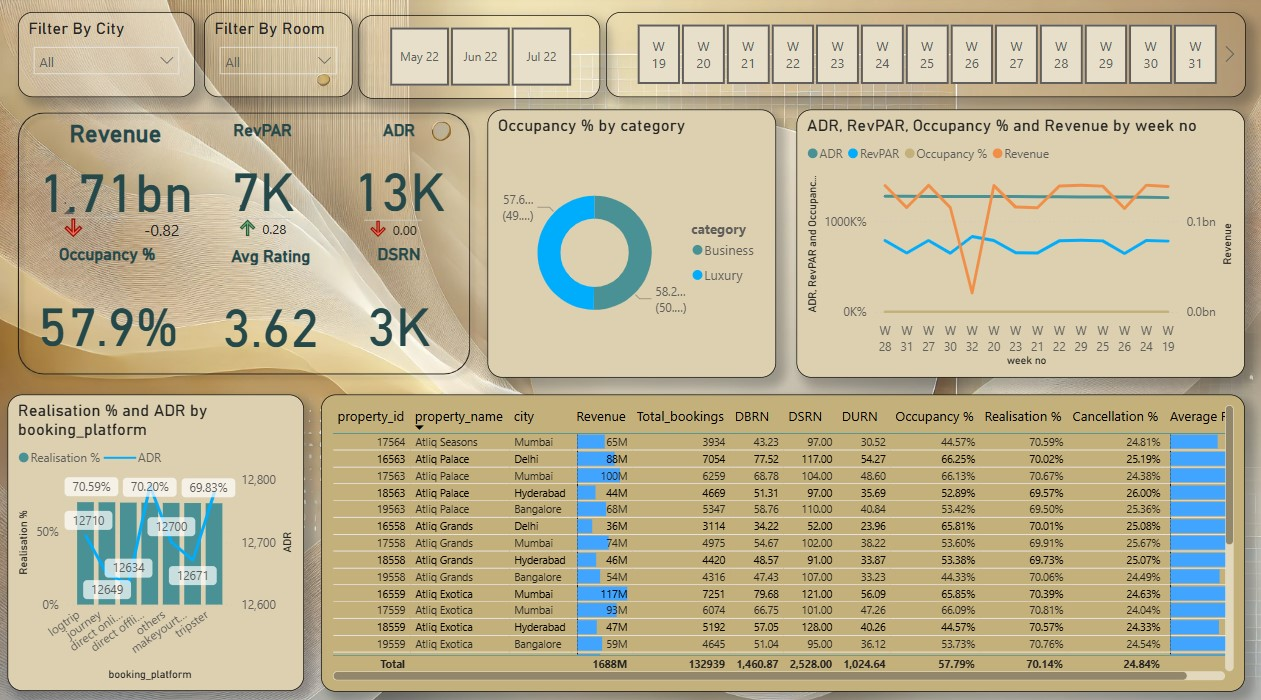

The dashboard page shown, as its layout file describes it:
{"tool":"powerbi","page":{"name":"Page 1","canvas":[1280,720],"ordinal":0},"visuals":[{"type":"shape","box":[11.8,111.1,474.5,282.7],"z":1000},{"type":"tableEx","fields":{"Values":["dim_hotels.property_id","dim_hotels.property_name","dim_hotels.city","key_measures.Revenue","key_measures.Total_bookings","key_measures.DBRN","key_measures.DSRN","key_measures.DURN","key_measures.Occupancy %","key_measures.Realisation %","key_measures.Cancellation %","key_measures.Average Rating"]},"box":[327.1,404.3,932.8,299.8],"z":2000},{"type":"slicer","title":"Filter By City","fields":{"Values":["dim_hotels.city"]},"box":[21.9,18.5,178.4,85.8],"z":3000},{"type":"slicer","title":"Filter By Room","fields":{"Values":["dim_rooms.room_class"]},"box":[208.7,18.5,149.8,85.8],"z":4000},{"type":"slicer","title":"Week Number","fields":{"Values":["dim_date.week no"]},"box":[614.2,18.5,646.2,85.8],"z":5000},{"type":"tableEx","fields":{"Values":["key_measures.Revenue WoW change %"]},"box":[55.5,181.7,153.1,94.2],"z":5500},{"type":"card","title":"Revenue","fields":{"Values":["key_measures.Revenue"]},"box":[21.9,127.9,196.9,106],"z":6000},{"type":"card","title":"Occupancy %","fields":{"Values":["key_measures.Occupancy %"]},"box":[21.9,252.4,180.1,132.9],"z":7000},{"type":"card","title":"Avg Rating","fields":{"Values":["key_measures.Average Rating"]},"box":[207,254.1,138,132.9],"z":8000},{"type":"slicer","fields":{"Values":["dim_date.mmm yy"]},"box":[365.4,20.5,244.1,84.8],"z":10000},{"type":"donutChart","fields":{"Category":["dim_hotels.category"],"Y":["key_measures.Occupancy %"]},"box":[494.7,116.1,291.1,270.9],"z":11000},{"type":"lineChart","fields":{"Y":["key_measures.ADR","key_measures.RevPAR","key_measures.Occupancy %"],"Y2":["key_measures.Revenue"],"Category":["dim_date.week no"]},"box":[807.7,116.1,452.7,270.9],"z":12000},{"type":"lineClusteredColumnComboChart","fields":{"Y":["key_measures.Realisation %"],"Category":["fact_bookings.booking_platform"],"Y2":["key_measures.ADR"]},"box":[10.1,403.9,299.5,299.5],"z":13000},{"type":"tableEx","fields":{"Values":["key_measures.Revpar WoW change %"]},"box":[233.9,188.5,149.8,89.2],"z":13500},{"type":"card","title":"RevPAR","fields":{"Values":["key_measures.RevPAR"]},"box":[200.2,127.9,136.3,112.7],"z":14000},{"type":"tableEx","fields":{"Values":["key_measures.ADR WoW change %"]},"box":[366.8,188.5,149.8,89.2],"z":14500},{"type":"card","title":"ADR","fields":{"Values":["key_measures.ADR"]},"box":[345,127.9,121.2,112.7],"z":15000},{"type":"card","title":"DSRN","fields":{"Values":["key_measures.DSRN"]},"box":[345,252.4,121.2,132.9],"z":16000}]}

Visuals, with their boxes in screenshot pixels (x1, y1, x2, y2), scaled from the page's 1280x720 canvas onto the 1261x700 screenshot:
shape: (x1=12, y1=108, x2=479, y2=383)
tableEx - dim_hotels.property_id x dim_hotels.property_name: (x1=322, y1=393, x2=1241, y2=685)
"Filter By City" slicer: (x1=22, y1=18, x2=197, y2=101)
"Filter By Room" slicer: (x1=206, y1=18, x2=353, y2=101)
"Week Number" slicer: (x1=605, y1=18, x2=1242, y2=101)
tableEx - key_measures.Revenue WoW change %: (x1=55, y1=177, x2=206, y2=268)
"Revenue" card: (x1=22, y1=124, x2=216, y2=227)
"Occupancy %" card: (x1=22, y1=245, x2=199, y2=375)
"Avg Rating" card: (x1=204, y1=247, x2=340, y2=376)
slicer - dim_date.mmm yy: (x1=360, y1=20, x2=600, y2=102)
donutChart - dim_hotels.category x key_measures.Occupancy %: (x1=487, y1=113, x2=774, y2=376)
lineChart - key_measures.ADR x key_measures.RevPAR: (x1=796, y1=113, x2=1242, y2=376)
lineClusteredColumnComboChart - key_measures.Realisation % x fact_bookings.booking_platform: (x1=10, y1=393, x2=305, y2=684)
tableEx - key_measures.Revpar WoW change %: (x1=230, y1=183, x2=378, y2=270)
"RevPAR" card: (x1=197, y1=124, x2=332, y2=234)
tableEx - key_measures.ADR WoW change %: (x1=361, y1=183, x2=509, y2=270)
"ADR" card: (x1=340, y1=124, x2=459, y2=234)
"DSRN" card: (x1=340, y1=245, x2=459, y2=375)
